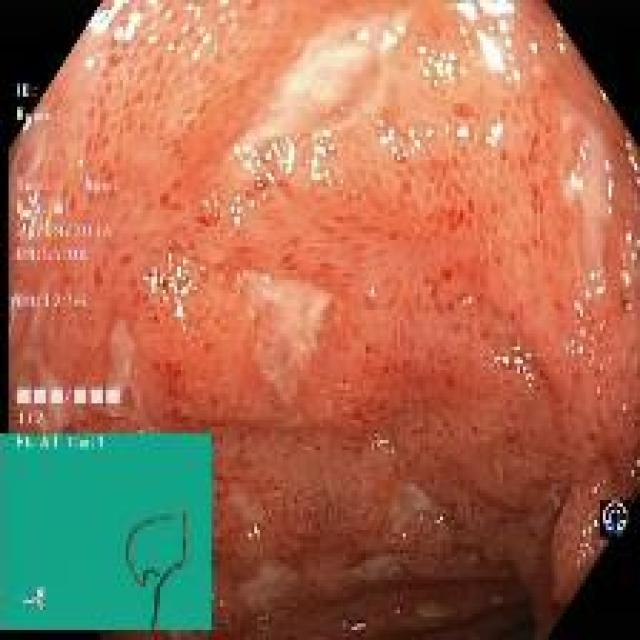ulcerative-colitis-grade-3: (10, 3, 640, 640)
